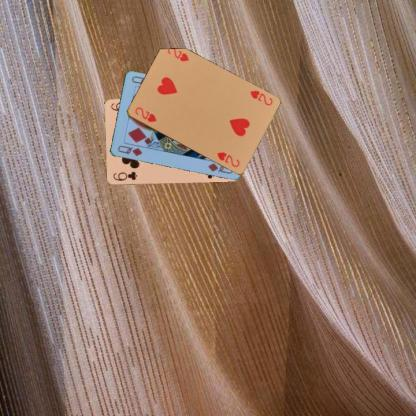2h: (247, 88, 274, 107), (132, 105, 157, 124)
6c: (110, 169, 138, 182)
Qd: (115, 143, 143, 157)
